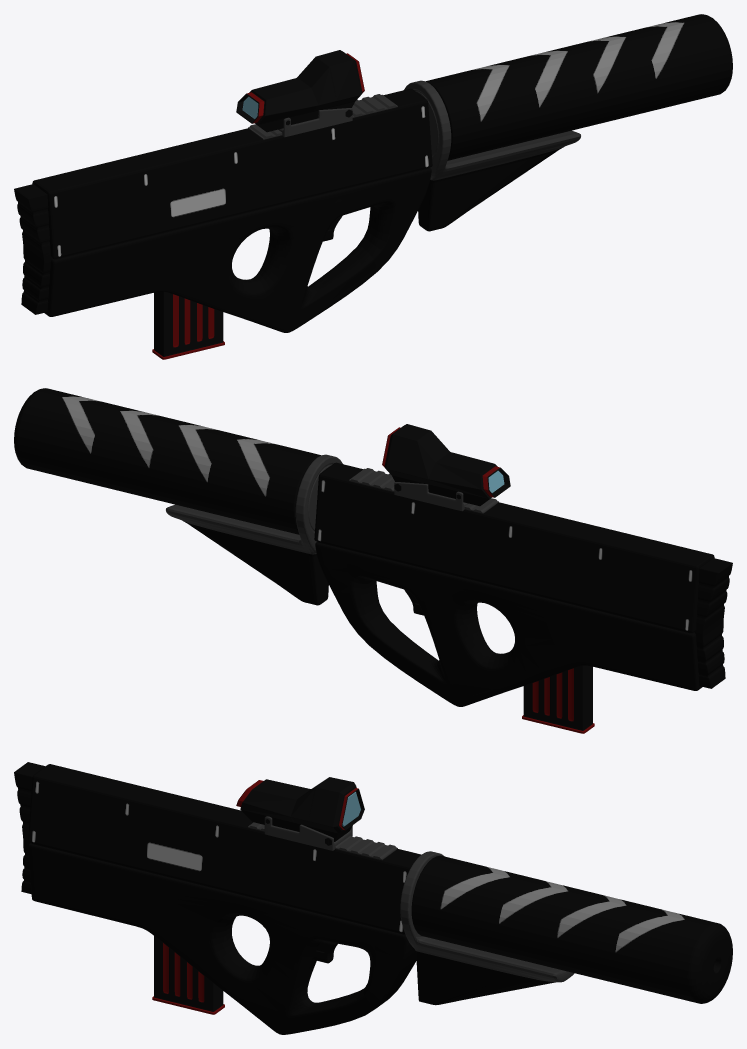
The model's file is rifle futuristic suppressed.obj.
The picture shows the model from 3 angles, top to bottom: view 1: azimuth 30°, elevation 25°; view 2: azimuth 150°, elevation 25°; view 3: azimuth 330°, elevation 25°; orthographic projection.
Visible parts, largest first — view 1: rifle_Circle, suppressor_Cylinder, scope_Cylinder.002, magazine_Cylinder.005; view 2: rifle_Circle, suppressor_Cylinder, scope_Cylinder.002, magazine_Cylinder.005; view 3: rifle_Circle, suppressor_Cylinder, scope_Cylinder.002, magazine_Cylinder.005.
Boxes of the visible parts, left/top/right/bottom form: rifle_Circle: left=14, top=88, right=432, bottom=332; suppressor_Cylinder: left=404, top=14, right=732, bottom=231; scope_Cylinder.002: left=236, top=50, right=397, bottom=139; magazine_Cylinder.005: left=152, top=291, right=224, bottom=359; rifle_Circle: left=314, top=462, right=732, bottom=706; suppressor_Cylinder: left=14, top=388, right=342, bottom=605; scope_Cylinder.002: left=349, top=424, right=510, bottom=513; magazine_Cylinder.005: left=522, top=665, right=594, bottom=733; rifle_Circle: left=14, top=762, right=420, bottom=1034; suppressor_Cylinder: left=400, top=851, right=732, bottom=1005; scope_Cylinder.002: left=236, top=777, right=397, bottom=860; magazine_Cylinder.005: left=152, top=936, right=224, bottom=1014.
Size of the model in its own units: 7.11 by 2.54 by 0.7668.
9 materials, 5 textured.
